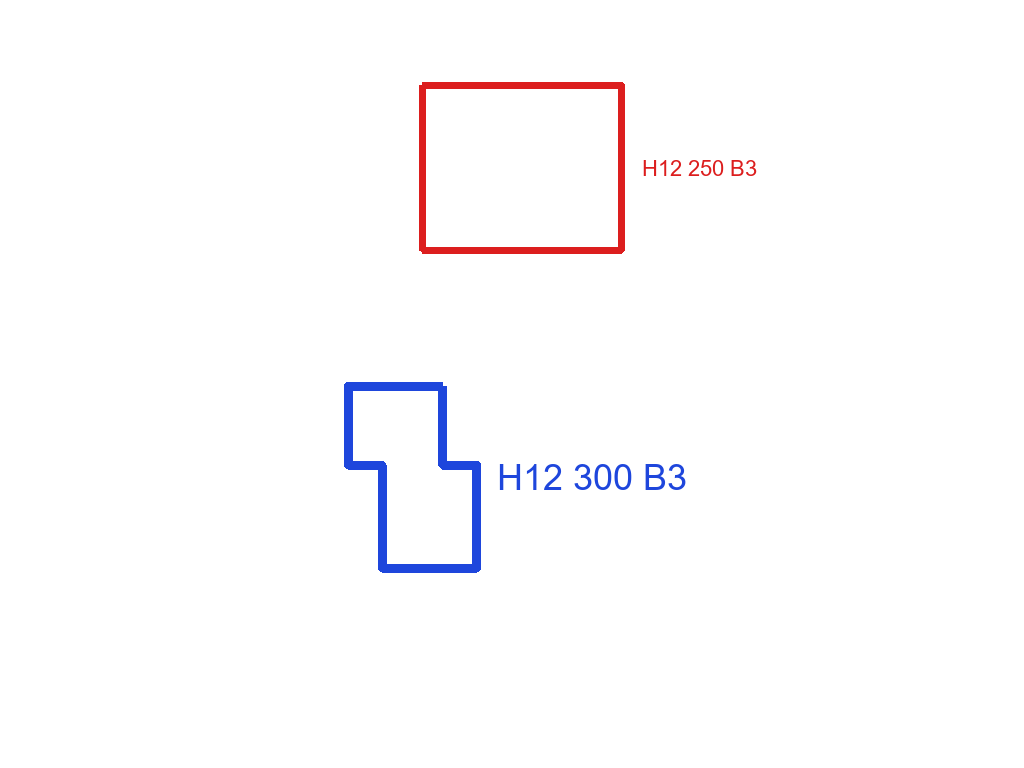shape: (417, 80, 627, 256), (342, 380, 483, 575)
text: (495, 462, 689, 492), (640, 158, 759, 178)
